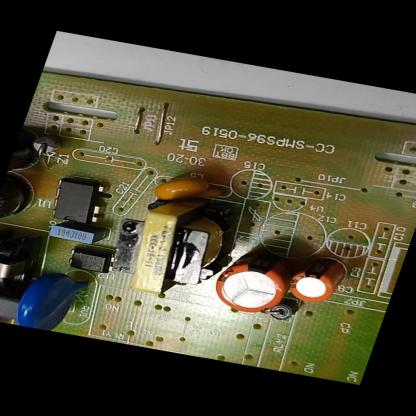Cap1: (205, 244, 299, 318)
Cap2: (282, 251, 350, 306)
Cap3: (0, 188, 32, 240)
Cap4: (1, 130, 48, 192)
MOSFET: (44, 177, 112, 227)
Mov: (10, 268, 92, 334)
Resistor: (0, 311, 10, 324)
Transformer: (104, 195, 241, 303), (0, 234, 37, 293)
